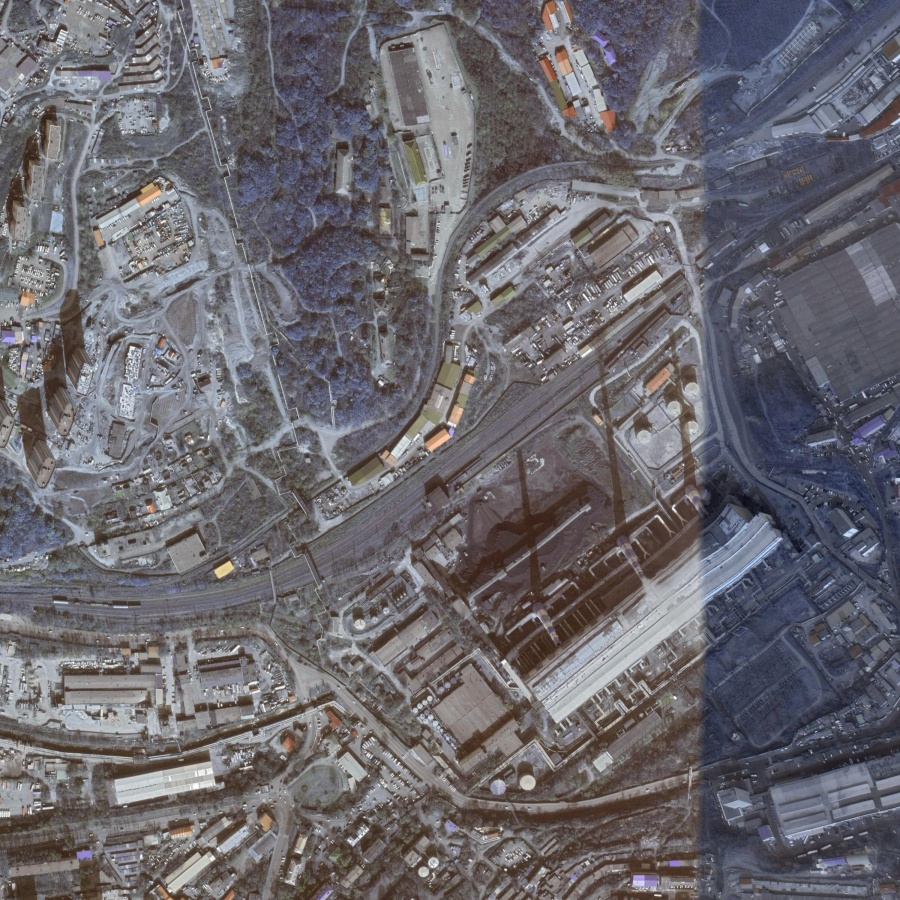PowerPlant: (451, 358, 778, 726)
